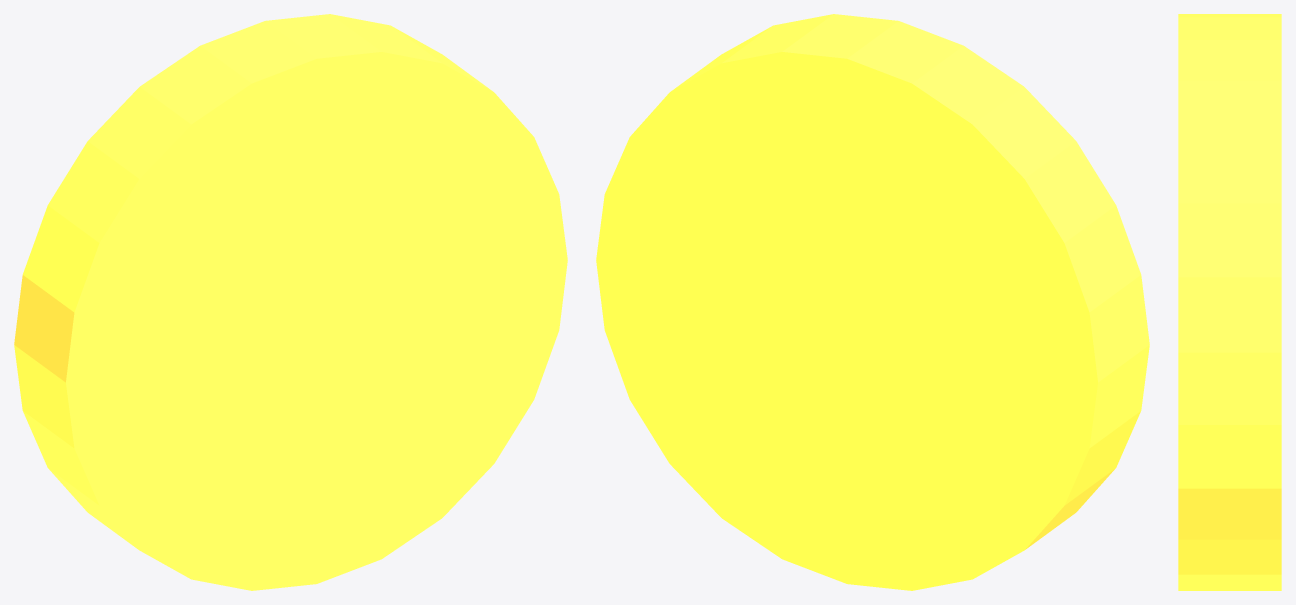
File: coin_city_2_lev5.glb
3 views of the same model, side by side, from view 1: azimuth 30°, elevation 25°; view 2: azimuth 150°, elevation 25°; view 3: azimuth 270°, elevation 25° (orthographic).
Parts seen in each view (by area): view 1: coin_city_2_lev5; view 2: coin_city_2_lev5; view 3: coin_city_2_lev5.
Part boxes in pixels (left/top/right/bottom): coin_city_2_lev5: left=14, top=14, right=567, bottom=590; coin_city_2_lev5: left=596, top=14, right=1149, bottom=590; coin_city_2_lev5: left=1178, top=14, right=1281, bottom=590.
Size of the model in its own units: 0.56 by 0.56 by 0.1.
